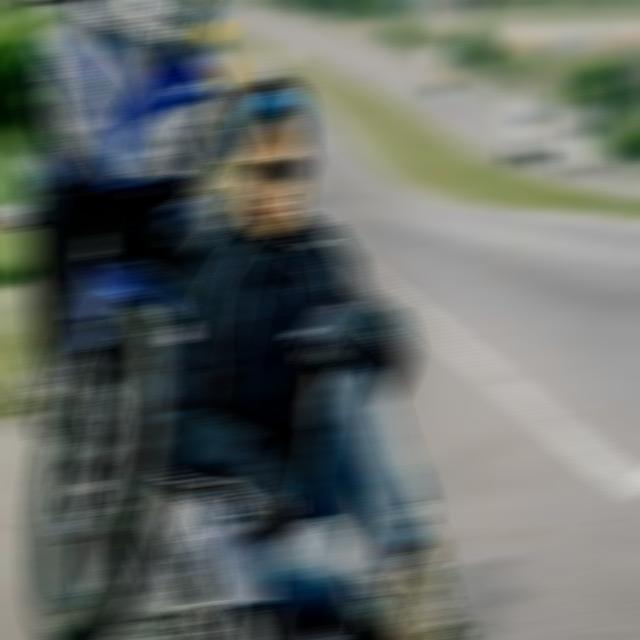Without Helmet: (224, 59, 321, 240)
